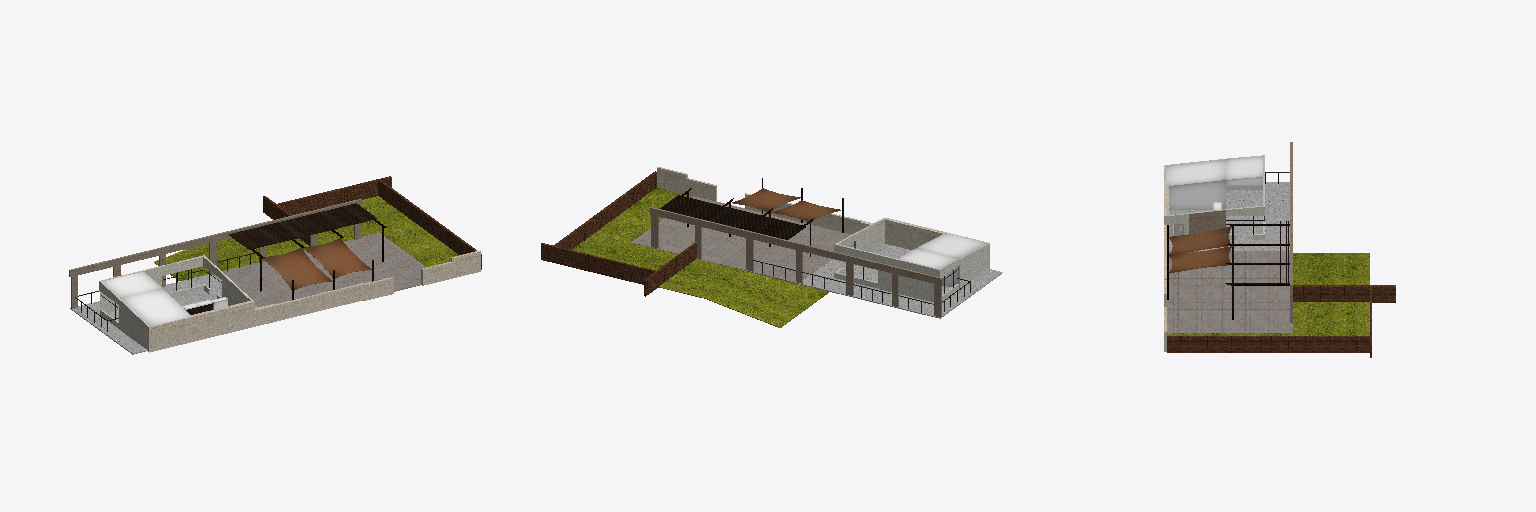
3 renders of one model, left to right at view 1: azimuth 30°, elevation 25°; view 2: azimuth 150°, elevation 25°; view 3: azimuth 270°, elevation 25°, orthographic.
Visible parts, largest first — view 1: Box039, Box012, Box119, Box110, Box111, Box038, Box120, Box097, Box100, Box013, Box102, Box099 (+4 smaller); view 2: Box039, Box012, Box038, Box037, Box035, Box119, Box013, Box034, Box097, Box111, Box091, Box110 (+5 smaller); view 3: Box039, Box119, Box038, Box110, Box111, Box120, Box014, Box035, Box012, Box037, Box104, Box034 (+9 smaller).
Boxes of the visible parts, x1=… form: Box039: x1=214, y1=233, x2=426, y2=307; Box012: x1=327, y1=213, x2=439, y2=249; Box119: x1=121, y1=288, x2=191, y2=326; Box110: x1=262, y1=248, x2=332, y2=290; Box111: x1=303, y1=238, x2=371, y2=278; Box038: x1=154, y1=238, x2=248, y2=277; Box120: x1=102, y1=271, x2=161, y2=297; Box097: x1=119, y1=299, x2=149, y2=348; Box100: x1=193, y1=308, x2=223, y2=341; Box013: x1=404, y1=241, x2=458, y2=266; Box102: x1=166, y1=315, x2=193, y2=347; Box099: x1=222, y1=301, x2=252, y2=333; Box039: x1=631, y1=196, x2=853, y2=283; Box012: x1=579, y1=216, x2=668, y2=262; Box038: x1=705, y1=282, x2=802, y2=327; Box037: x1=729, y1=271, x2=828, y2=310; Box035: x1=647, y1=263, x2=727, y2=298; Box119: x1=916, y1=233, x2=986, y2=286; Box013: x1=619, y1=188, x2=693, y2=223; Box034: x1=654, y1=252, x2=743, y2=281; Box097: x1=958, y1=243, x2=988, y2=288; Box111: x1=732, y1=188, x2=800, y2=211; Box091: x1=855, y1=218, x2=885, y2=251; Box110: x1=771, y1=200, x2=840, y2=221; Box039: x1=1167, y1=251, x2=1292, y2=332; Box119: x1=1166, y1=159, x2=1225, y2=209; Box038: x1=1324, y1=253, x2=1369, y2=277; Box110: x1=1169, y1=226, x2=1231, y2=256; Box111: x1=1169, y1=246, x2=1232, y2=273; Box120: x1=1226, y1=156, x2=1262, y2=185; Box014: x1=1324, y1=315, x2=1369, y2=335; Box035: x1=1324, y1=278, x2=1369, y2=314; Box012: x1=1246, y1=315, x2=1324, y2=335; Box037: x1=1293, y1=253, x2=1323, y2=277; Box104: x1=1189, y1=210, x2=1225, y2=233; Box034: x1=1293, y1=278, x2=1323, y2=314.
Size of the model in its own units: 442 by 59.84 by 245.
15 materials, 15 textured.